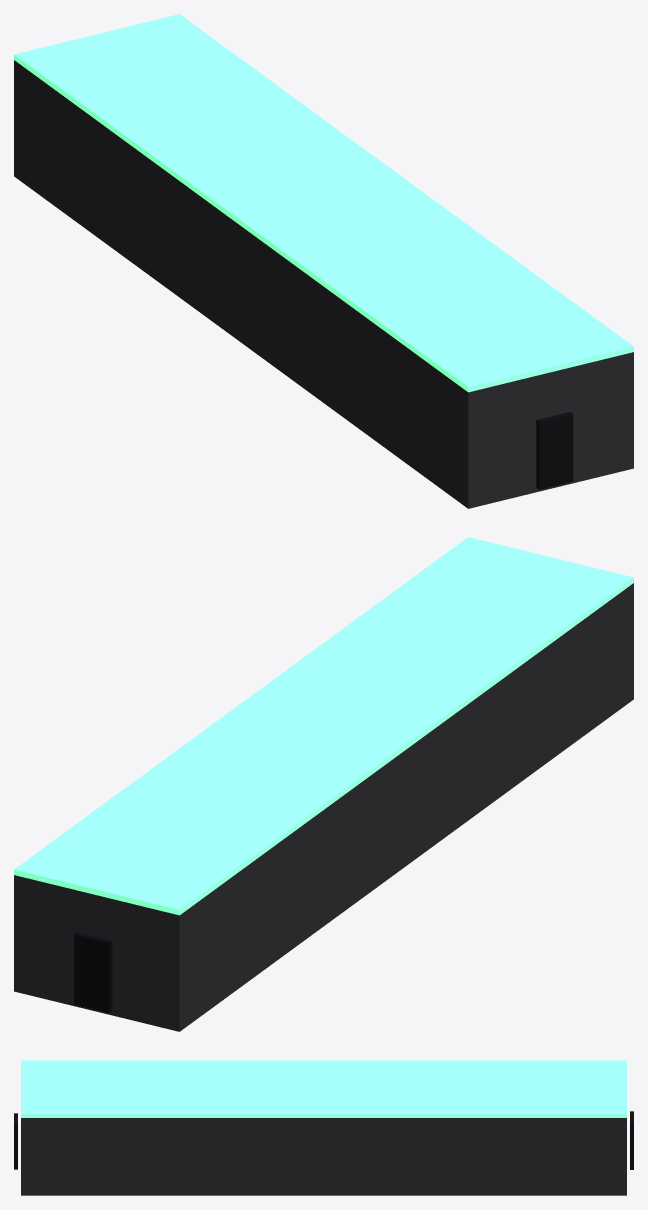
The model's file is rdwe_green_grid.glb.
The picture shows the model from 3 angles, top to bottom: view 1: azimuth 30°, elevation 25°; view 2: azimuth 150°, elevation 25°; view 3: azimuth 270°, elevation 25°; orthographic projection. The views are drawn at different scales.
Parts seen in each view (by area): view 1: Room_Ceiling, Room_Wall_W_1, Room_Wall_S_1, Room_Wall_S_3, Room_Floor, Beyond_teal2, Room_Wall_S_2; view 2: Room_Ceiling, Room_Wall_W_1, Room_Wall_N_1, Room_Wall_N_3, Room_Floor, Beyond_seam, Room_Wall_N_2; view 3: Room_Wall_E_1, Room_Ceiling, Room_Floor, Room_Wall_N_3, Room_Wall_S_3, Beyond_seam, Beyond_teal2.
Boxes of the visible parts, box(x1,y1,x2,y2) form: Room_Ceiling: box(14, 14, 633, 392); Room_Wall_W_1: box(17, 62, 465, 498); Room_Wall_S_1: box(465, 375, 539, 500); Room_Wall_S_3: box(562, 352, 633, 474); Room_Floor: box(14, 168, 633, 508); Beyond_teal2: box(536, 411, 573, 489); Room_Wall_S_2: box(540, 369, 562, 418); Room_Ceiling: box(14, 537, 633, 915); Room_Wall_W_1: box(182, 585, 630, 1021); Room_Wall_N_1: box(108, 898, 182, 1023); Room_Wall_N_3: box(14, 875, 85, 997); Room_Floor: box(14, 691, 633, 1031); Beyond_seam: box(74, 932, 112, 1012); Room_Wall_N_2: box(85, 892, 108, 939); Room_Wall_E_1: box(25, 1118, 622, 1190); Room_Ceiling: box(21, 1060, 626, 1117); Room_Floor: box(21, 1190, 626, 1195); Room_Wall_N_3: box(623, 1118, 626, 1190); Room_Wall_S_3: box(21, 1118, 24, 1190); Beyond_seam: box(630, 1111, 633, 1169); Beyond_teal2: box(14, 1113, 17, 1169).
Bounding box in the file's own units: 6.4 × 4.5 × 31.1.
